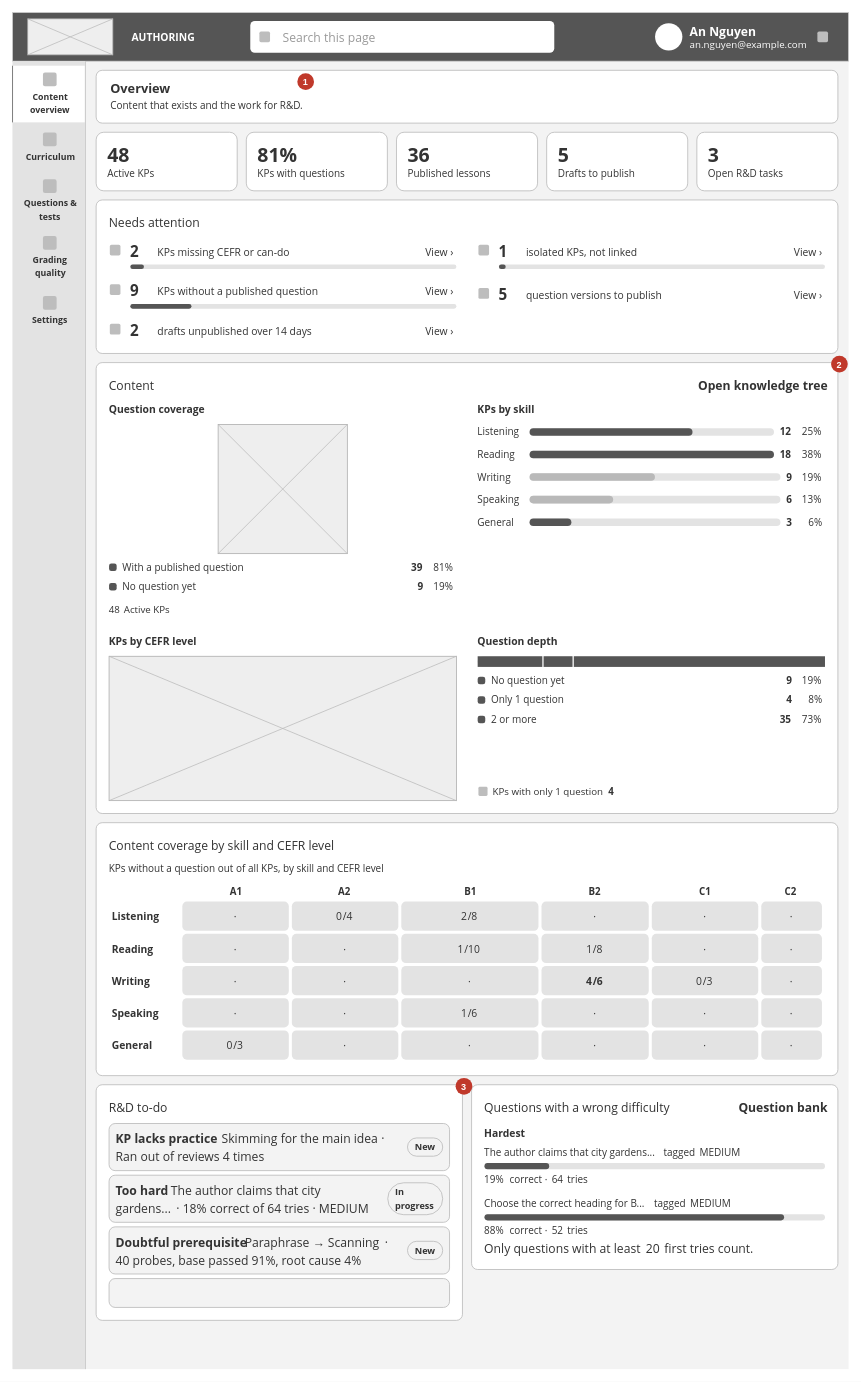
Some shapes in this 861 by 1382 pixel diagram are drawn without their labels. Each missing label, with the box of its shape:
AN: (655, 23, 682, 50)
View all: (108, 1278, 450, 1307)
